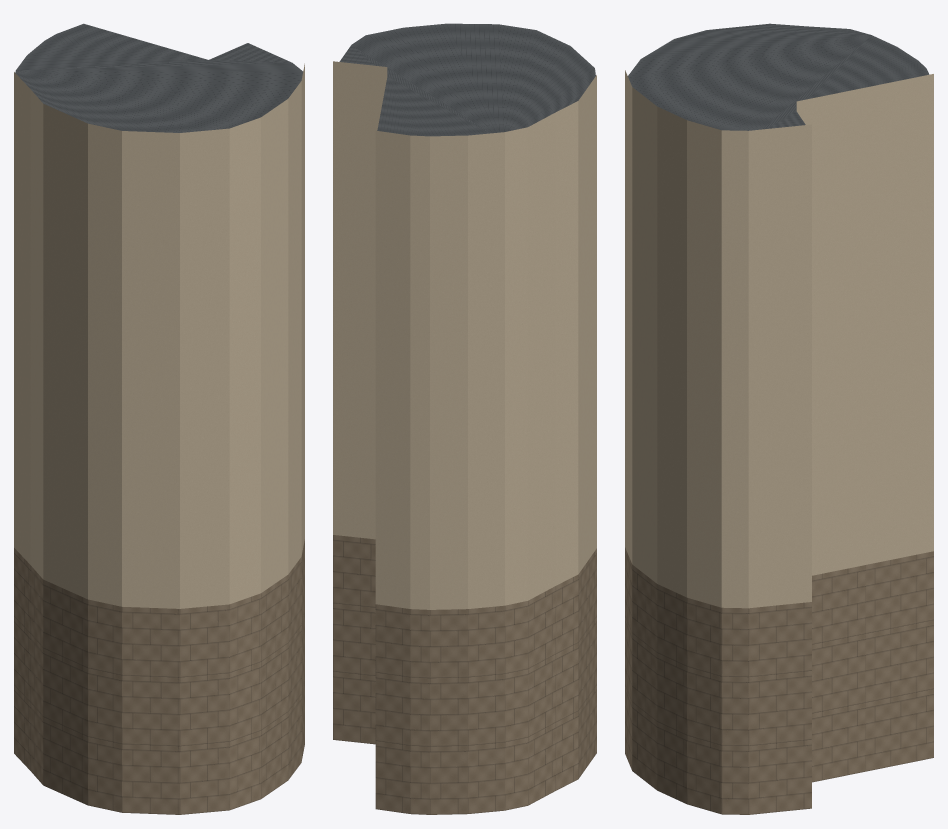
File: core_0039.gltf
3 views of the same model, side by side, from view 1: azimuth 30°, elevation 25°; view 2: azimuth 150°, elevation 25°; view 3: azimuth 270°, elevation 25° (orthographic).
Visible parts, largest first — view 1: core_0039; view 2: core_0039; view 3: core_0039.
Part boxes in pixels (bbox=[...]): core_0039: bbox=[14, 23, 304, 814]; core_0039: bbox=[333, 23, 596, 814]; core_0039: bbox=[625, 23, 933, 814].
Bounding box in the file's own units: 6.18 × 16.88 × 6.9.
Materials: 3 (3 with a texture image).
